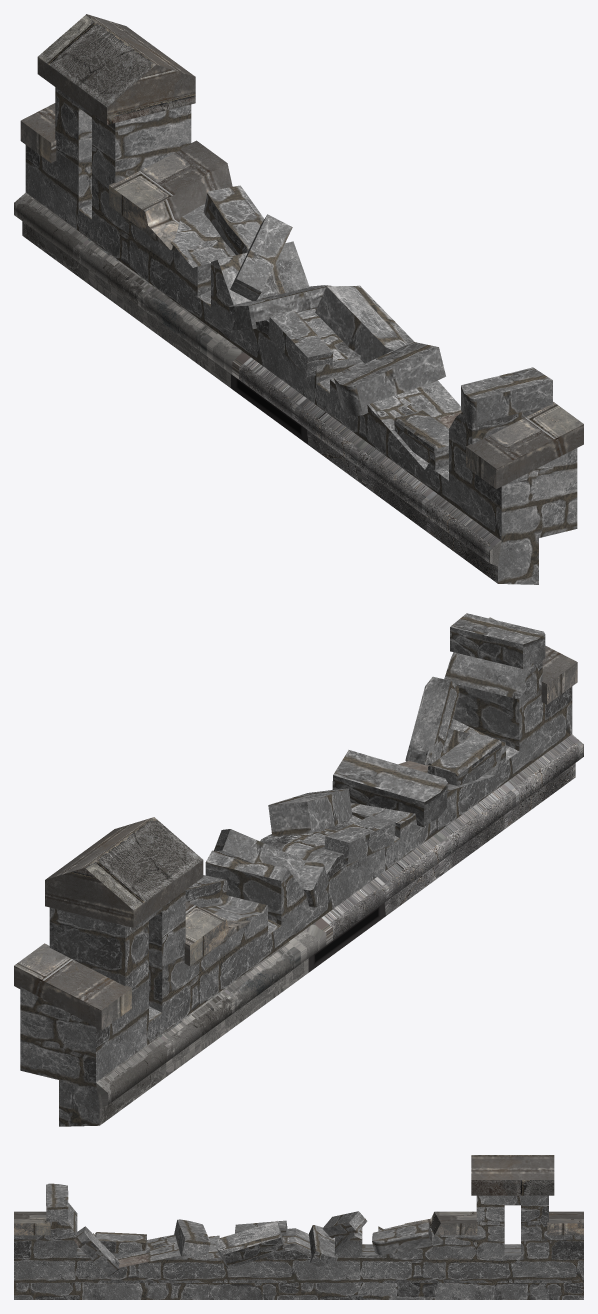
Rendered from MC_Battlements_Wall_A_8m_Broken.fbx.
3 views of the same model, one above another, from view 1: azimuth 30°, elevation 25°; view 2: azimuth 150°, elevation 25°; view 3: azimuth 270°, elevation 25° (orthographic). The views are drawn at different scales.
Visible parts, largest first — view 1: MC_Battlements_Wall_A_8m_Broken_LOD0; view 2: MC_Battlements_Wall_A_8m_Broken_LOD0; view 3: MC_Battlements_Wall_A_8m_Broken_LOD0.
Boxes of the visible parts, x1,y1,x2,y2 form: MC_Battlements_Wall_A_8m_Broken_LOD0: (14, 14, 583, 584); MC_Battlements_Wall_A_8m_Broken_LOD0: (14, 613, 583, 1126); MC_Battlements_Wall_A_8m_Broken_LOD0: (14, 1155, 583, 1299).
Size of what is drawn, in the model's own units: 102 by 224 by 800.
